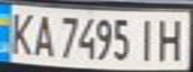4: (75, 14, 96, 61)
5: (112, 15, 136, 62)
7: (54, 12, 78, 60)
9: (93, 15, 115, 61)
A: (27, 11, 57, 58)
H: (151, 15, 190, 62)
I: (133, 15, 160, 62)
K: (3, 8, 39, 57)
